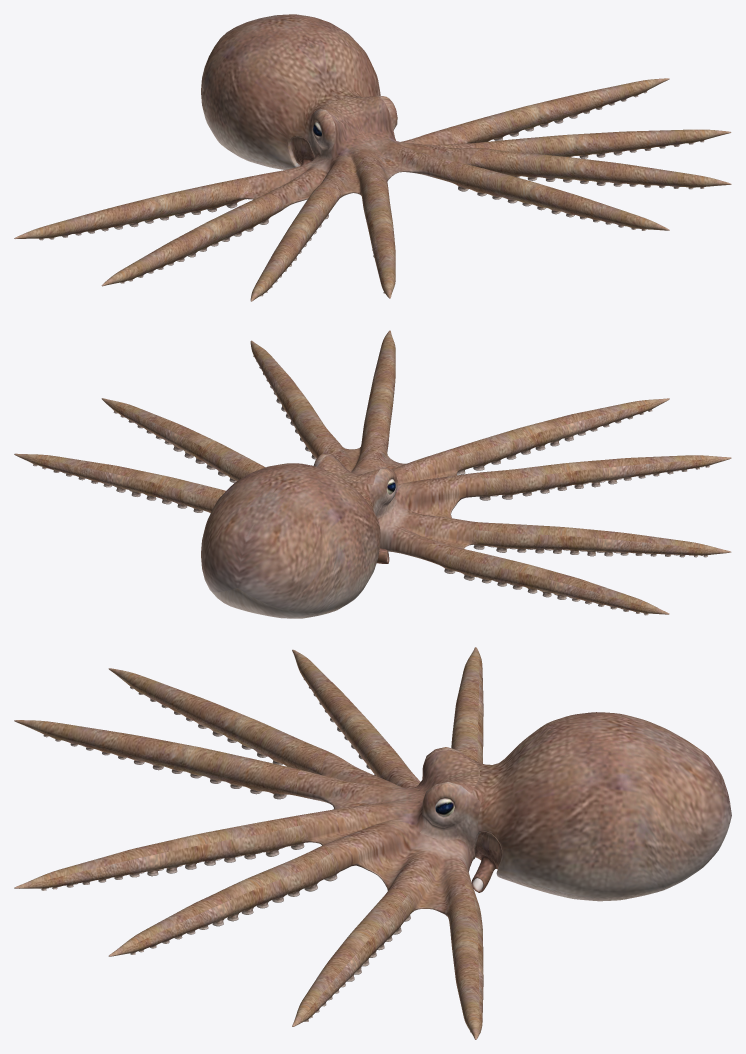
File: octopus.glb
3 views of the same model, one above another, from view 1: azimuth 30°, elevation 25°; view 2: azimuth 150°, elevation 25°; view 3: azimuth 270°, elevation 25° (orthographic). The views are drawn at different scales.
Visible parts, largest first — view 1: Sphere02; view 2: Sphere02; view 3: Sphere02.
Boxes of the visible parts, x1,y1,x2,y2 form: Sphere02: (14,14,731,301); Sphere02: (14,330,731,618); Sphere02: (14,647,731,1039).
Size of the model in its own units: 60.76 by 11.42 by 46.95.
Materials: 1 (1 with a texture image).
